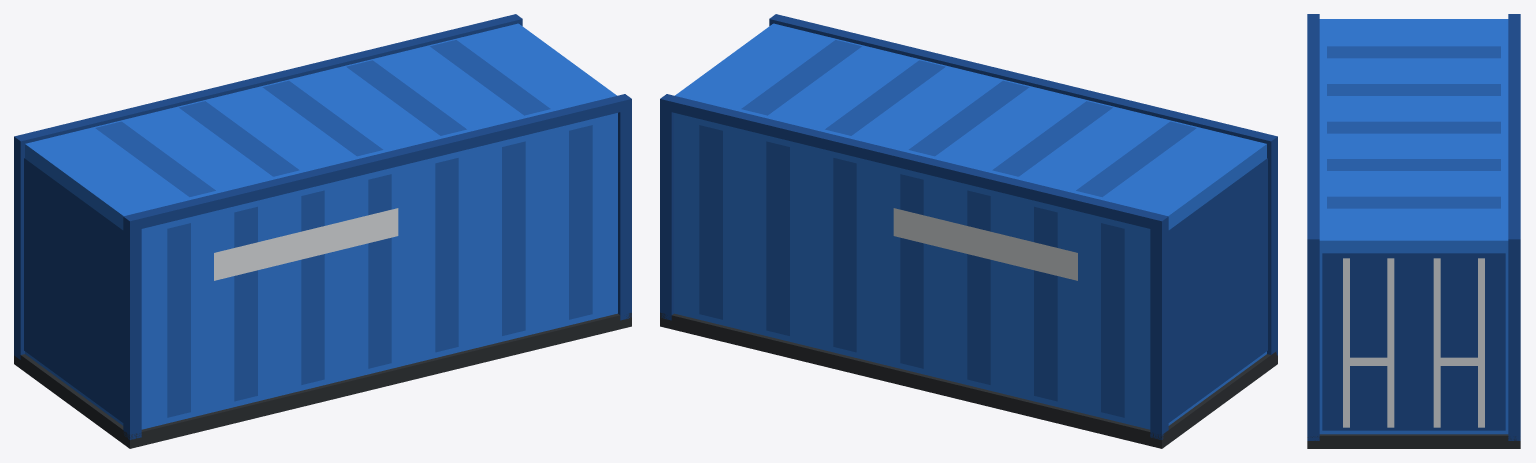
File: container_blue.glb
3 renders of one model, left to right at view 1: azimuth 30°, elevation 25°; view 2: azimuth 150°, elevation 25°; view 3: azimuth 270°, elevation 25°, orthographic. The views are drawn at different scales.
Visible parts, largest first — view 1: container_blue; view 2: container_blue; view 3: container_blue.
Boxes of the visible parts, x1,y1,x2,y2 form: container_blue: [14, 14, 631, 448]; container_blue: [660, 14, 1277, 448]; container_blue: [1307, 14, 1520, 448].
Size of the model in its own units: 0.604 by 0.26 by 0.242.
